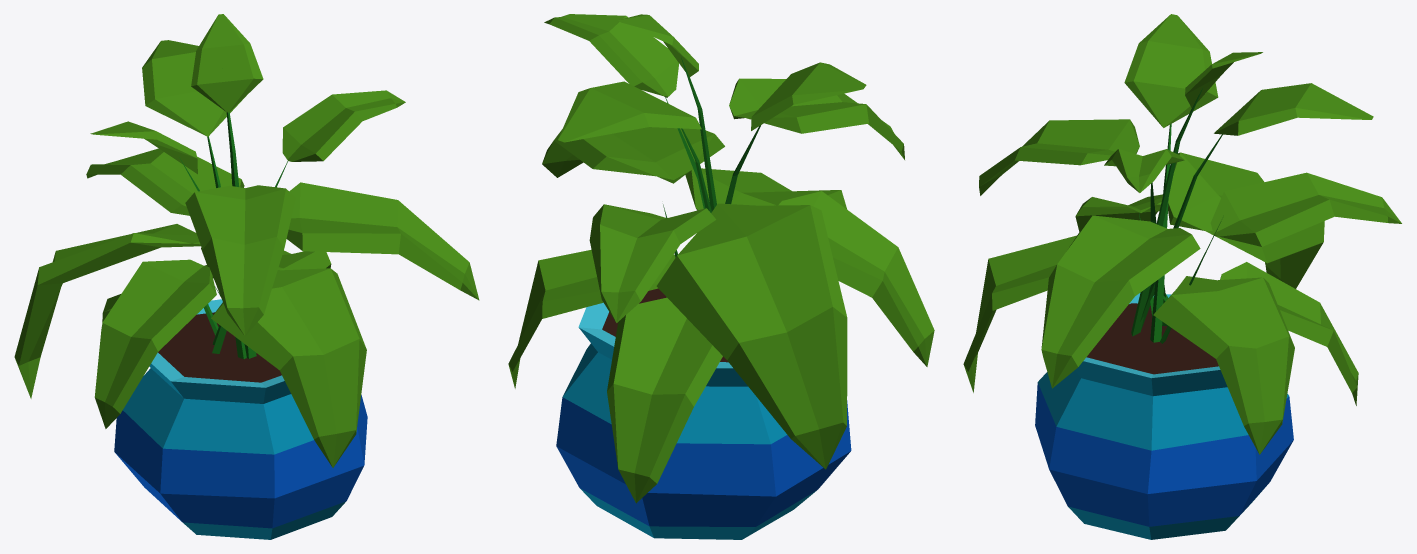
File: plant.obj
3 renders of one model, left to right at view 1: azimuth 30°, elevation 25°; view 2: azimuth 150°, elevation 25°; view 3: azimuth 270°, elevation 25°, orthographic. The views are drawn at different scales.
Parts seen in each view (by area): view 1: obj1, obj4, obj3, obj6, obj2, obj5; view 2: obj1, obj4, obj3, obj2, obj5; view 3: obj1, obj4, obj3, obj6, obj2, obj5.
Part boxes in pixels (box(x1,y1,x2,y2)): obj1: box(14, 14, 479, 467); obj4: box(114, 395, 367, 528); obj3: box(123, 363, 345, 539); obj6: box(158, 312, 281, 382); obj2: box(179, 112, 287, 359); obj5: box(151, 299, 284, 387); obj1: box(508, 14, 934, 503); obj4: box(556, 397, 851, 526); obj3: box(562, 328, 816, 539); obj2: box(663, 57, 760, 257); obj5: box(578, 302, 732, 368); obj1: box(963, 14, 1401, 454); obj4: box(1035, 382, 1293, 526); obj3: box(1038, 361, 1288, 539); obj6: box(1086, 303, 1218, 374); obj2: box(1131, 88, 1222, 343); obj5: box(1083, 293, 1220, 378).
Size of the model in its own units: 0.5715 by 0.6897 by 0.589.
